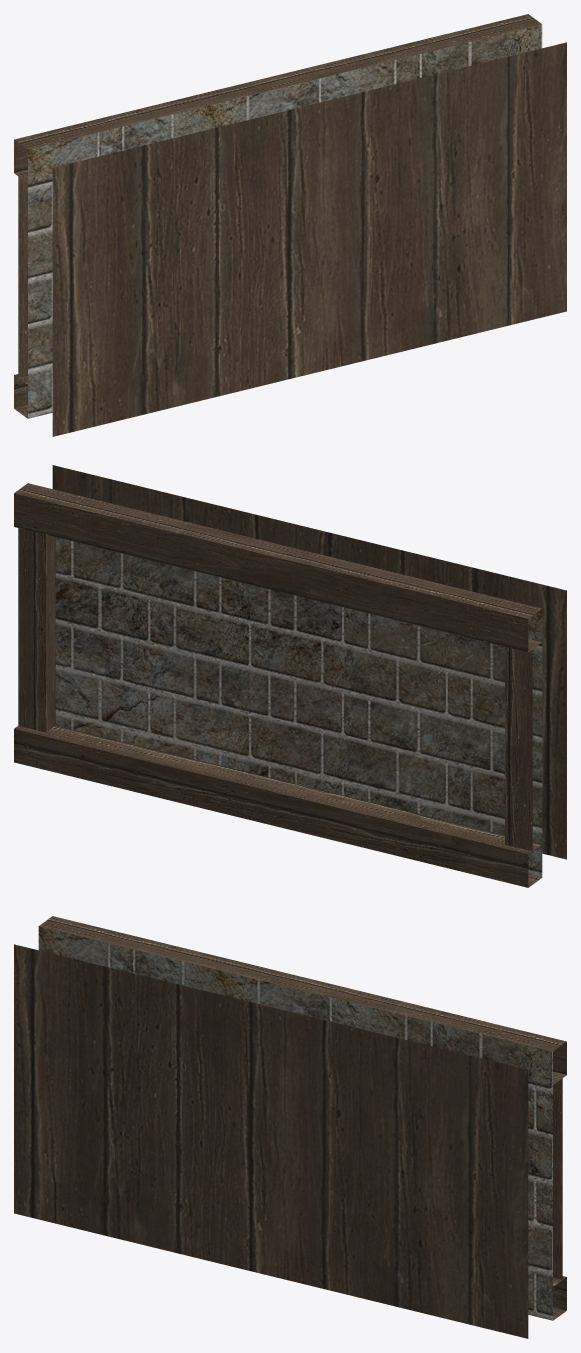
Rendered from ARC1010202.fbx.
3 renders of one model, top to bottom at view 1: azimuth 30°, elevation 25°; view 2: azimuth 150°, elevation 25°; view 3: azimuth 330°, elevation 25°, orthographic.
Visible parts, largest first — view 1: smARC1010202; view 2: smARC1010202; view 3: smARC1010202.
Part boxes in pixels (x1=…): smARC1010202: x1=14, y1=14, x2=566, y2=436; smARC1010202: x1=14, y1=465, x2=566, y2=887; smARC1010202: x1=14, y1=916, x2=566, y2=1338.
Bounding box in the file's own units: 268 × 134 × 34.9.
Materials: 1 (1 with a texture image).
